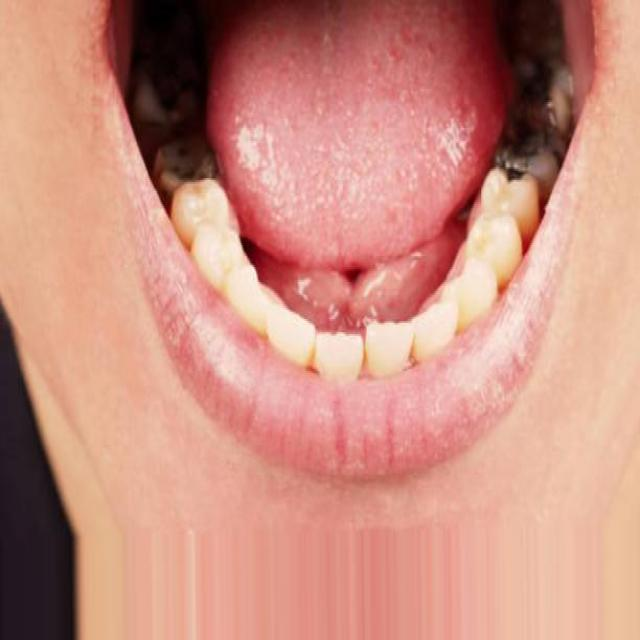caries: (488, 98, 560, 177), (504, 27, 575, 105), (138, 54, 216, 124), (152, 128, 220, 189)
